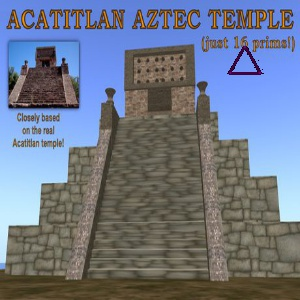triangle: (223, 43, 265, 78)
